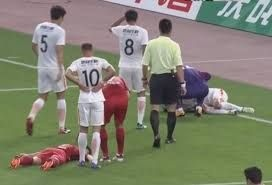falling: (168, 82, 252, 119)
